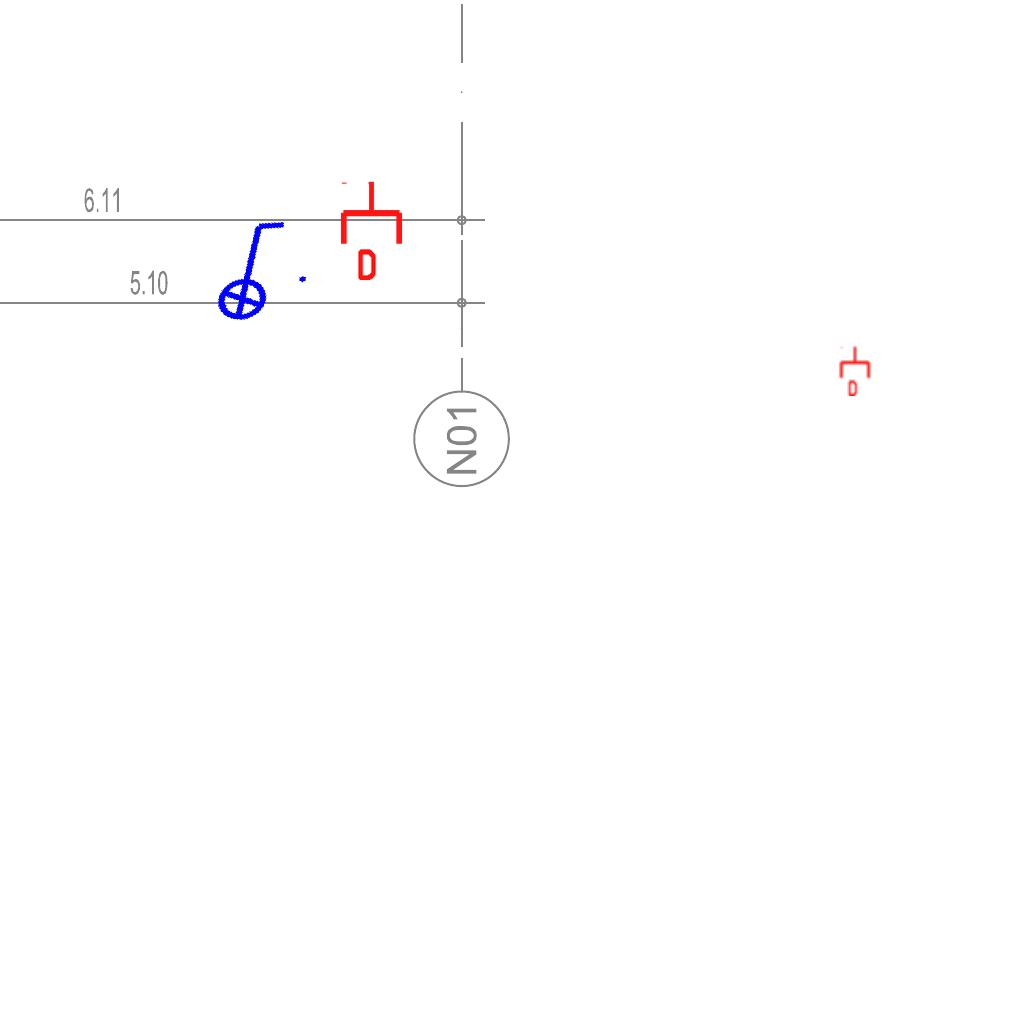Ausschalter_beleuchtet: (181, 205, 319, 333)
Datenanschluss_einfach: (337, 180, 406, 280), (838, 346, 872, 396)
